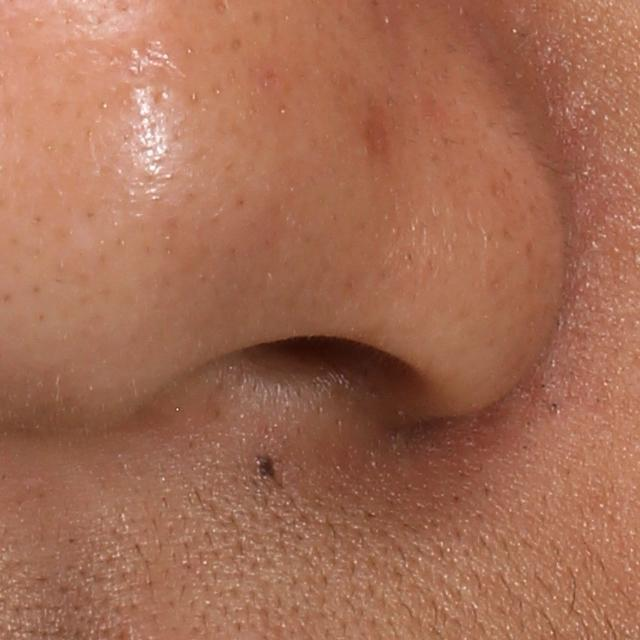nevus: (251, 456, 276, 484)
